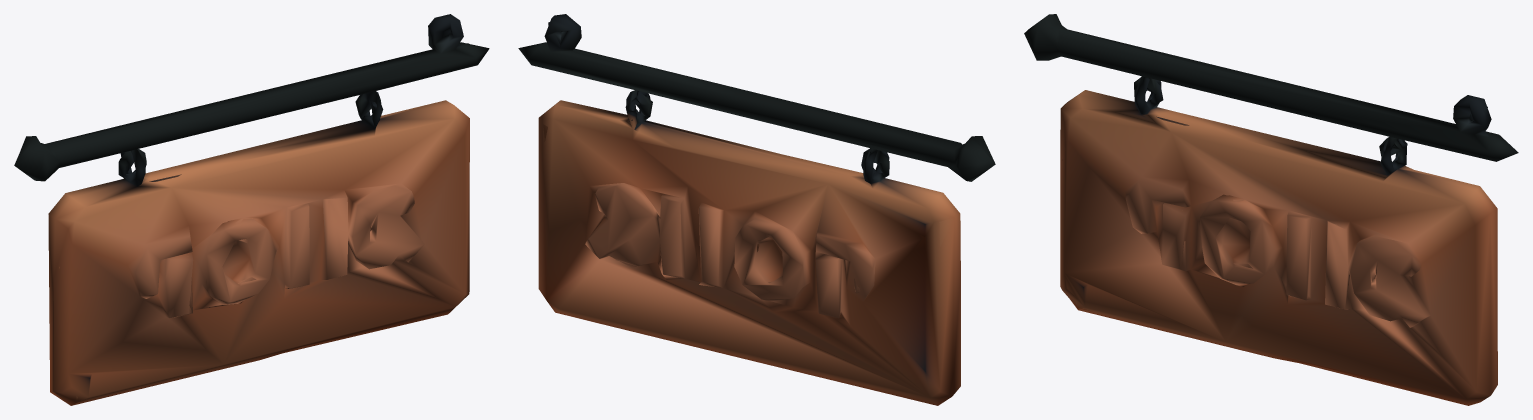
The model's file is gen3d-shop-sign-lod1.glb.
3 views of the same model, side by side, from view 1: azimuth 30°, elevation 25°; view 2: azimuth 150°, elevation 25°; view 3: azimuth 330°, elevation 25° (orthographic). The views are drawn at different scales.
Visible parts, largest first — view 1: part_0; view 2: part_0; view 3: part_0.
Part boxes in pixels (x1,y1,x2,y2): part_0: [14, 14, 489, 405]; part_0: [518, 14, 995, 405]; part_0: [1024, 14, 1518, 405].
Size of the model in its own units: 1.68 by 0.9942 by 0.1642.
